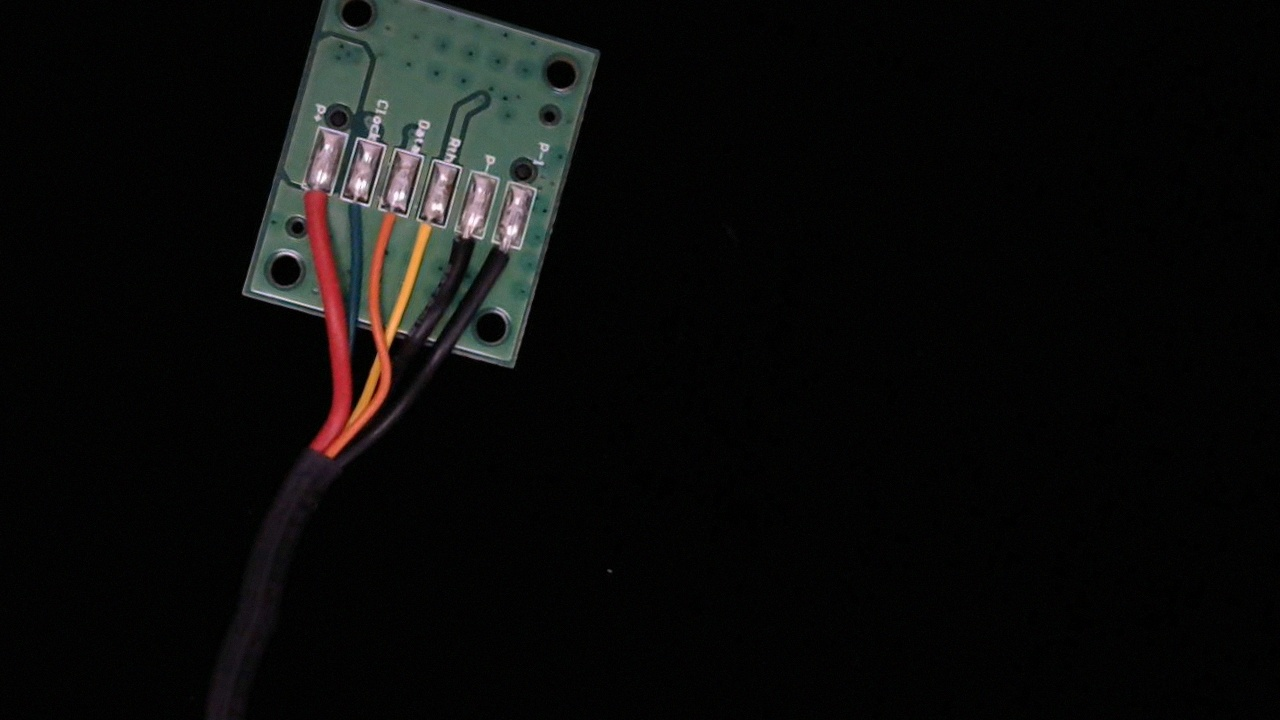Black: (436, 213, 486, 287)
Black1: (476, 224, 528, 297)
Green: (325, 179, 374, 248)
Orange: (366, 190, 412, 255)
Red: (287, 169, 336, 237)
Yellow: (401, 200, 449, 272)
